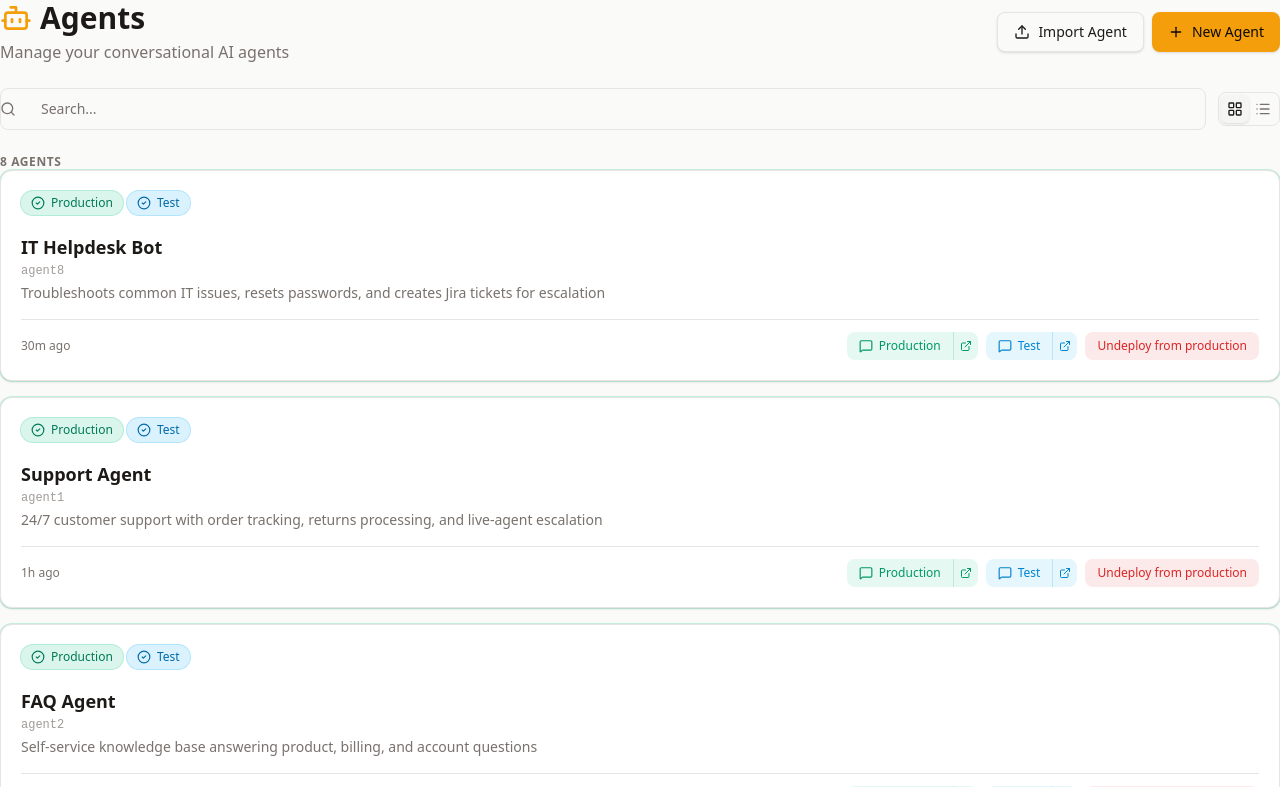
Test: AgentsPage — Import/Export › import button opens import dialog on click
Click the button with test id "import-agent-btn".
click(1071, 32)  # box [997,12,1144,52]
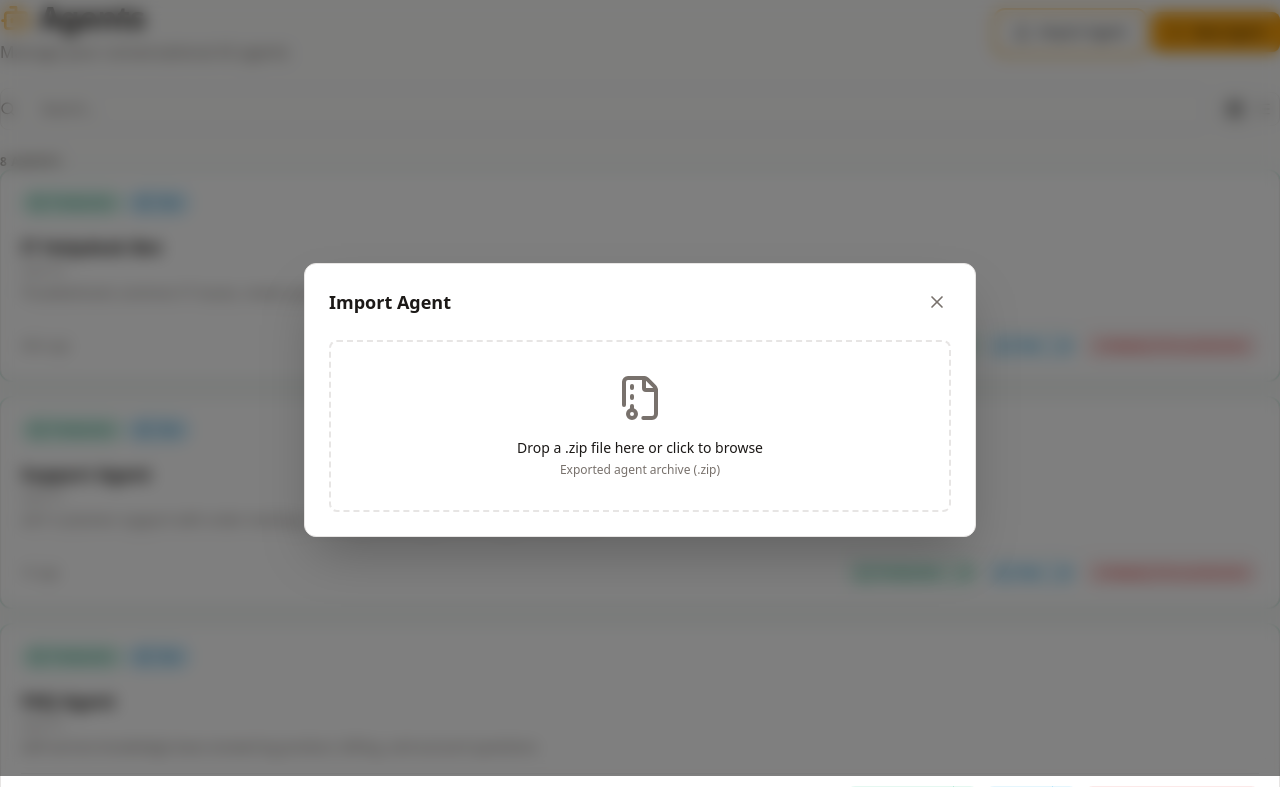
Now the element with test id "import-agent-dialog" is shown, box [304,263,976,537]
